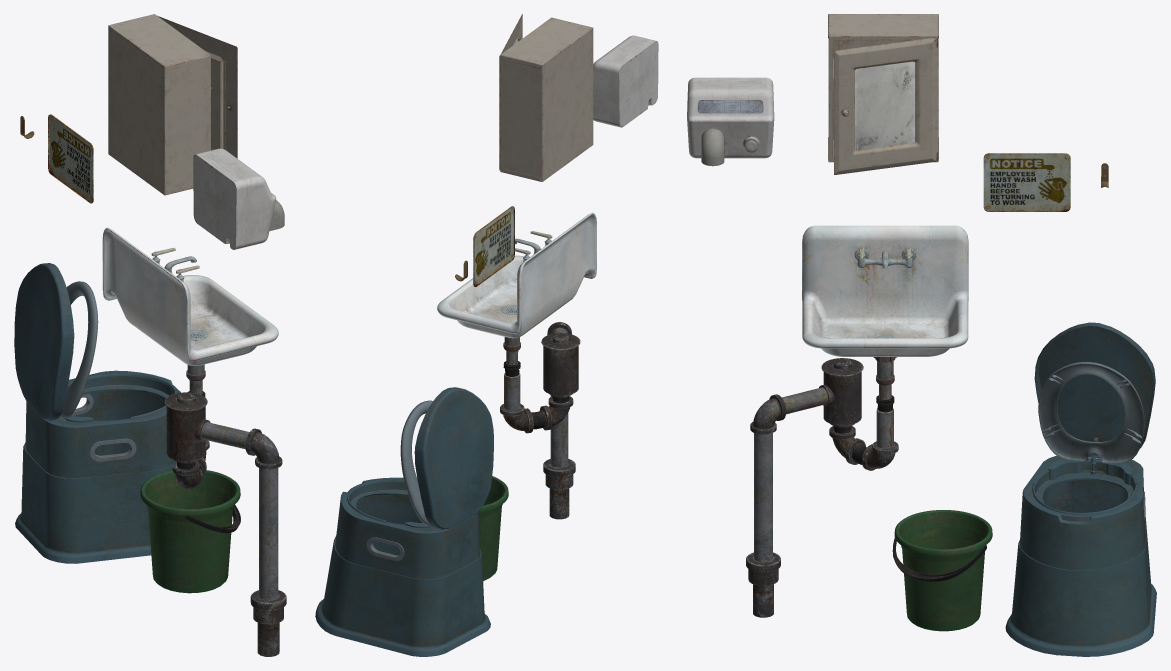
The picture shows the model from 3 angles, left to right: view 1: azimuth 30°, elevation 25°; view 2: azimuth 150°, elevation 25°; view 3: azimuth 270°, elevation 25°; orthographic projection. The views are drawn at different scales.
Visible parts, largest first — view 1: Toilet_Base_LP_27, MirrorCabinet_LP_4, BathroomSink_LP_11, PlasticBucket_Simple_LP_15, Sink_Pipes_Floor_LP_9, Toilet_Lid_LP_22, HandDryer_LP_5, Sign_LP_13, Toilet_Inside_LP_17, MirrorCabinet_Door_LP_2, Toilet_Seat_LP_26, Sink_Pipes_LP_10 (+3 smaller); view 2: Toilet_Base_LP_27, MirrorCabinet_LP_4, BathroomSink_LP_11, Toilet_Lid_LP_22, HandDryer_LP_5, Sink_Pipes_Floor_LP_9, Sink_Pipes_LP_10, Sign_LP_13, PlasticBucket_Simple_LP_15, Toilet_Inside_LP_17, Toilet_Seat_LP_26, MirrorCabinet_Door_LP_2; view 3: Toilet_Base_LP_27, BathroomSink_LP_11, PlasticBucket_Simple_LP_15, Toilet_Lid_LP_22, MirrorCabinet_Door_LP_2, Sink_Pipes_Floor_LP_9, HandDryer_LP_5, Sign_LP_13, Toilet_Seat_LP_26, MirrorCabinet_Mirror_LP_0, MirrorCabinet_LP_4, Sink_Pipes_LP_10 (+3 smaller).
Part boxes in pixels (x1,y1,x2,y2): Toilet_Base_LP_27: (15, 370, 180, 563); MirrorCabinet_LP_4: (108, 14, 210, 195); BathroomSink_LP_11: (102, 227, 278, 365); PlasticBucket_Simple_LP_15: (140, 470, 240, 593); Sink_Pipes_Floor_LP_9: (164, 392, 286, 656); Toilet_Lid_LP_22: (14, 263, 74, 420); HandDryer_LP_5: (193, 148, 284, 249); Sign_LP_13: (48, 114, 93, 203); Toilet_Inside_LP_17: (74, 390, 165, 455); MirrorCabinet_Door_LP_2: (158, 16, 237, 158); Toilet_Seat_LP_26: (60, 281, 98, 418); Sink_Pipes_LP_10: (172, 334, 209, 489); Toilet_Base_LP_27: (315, 477, 490, 656); MirrorCabinet_LP_4: (500, 17, 593, 181); BathroomSink_LP_11: (437, 212, 596, 338); Toilet_Lid_LP_22: (414, 387, 493, 529); HandDryer_LP_5: (593, 35, 658, 127); Sink_Pipes_Floor_LP_9: (541, 322, 580, 519); Sink_Pipes_LP_10: (500, 309, 573, 433); Sign_LP_13: (473, 206, 514, 286); PlasticBucket_Simple_LP_15: (478, 476, 508, 580); Toilet_Inside_LP_17: (356, 494, 422, 555); Toilet_Seat_LP_26: (400, 400, 432, 525); MirrorCabinet_Door_LP_2: (499, 14, 522, 170); Toilet_Base_LP_27: (1005, 455, 1156, 656); BathroomSink_LP_11: (802, 225, 968, 356); PlasticBucket_Simple_LP_15: (894, 510, 992, 631); Toilet_Lid_LP_22: (1034, 322, 1155, 457); MirrorCabinet_Door_LP_2: (834, 37, 938, 174); Sink_Pipes_Floor_LP_9: (746, 358, 863, 617); HandDryer_LP_5: (687, 77, 774, 166); Sign_LP_13: (983, 153, 1070, 211); Toilet_Seat_LP_26: (1038, 362, 1144, 463); MirrorCabinet_Mirror_LP_0: (855, 61, 915, 150); MirrorCabinet_LP_4: (828, 14, 938, 162); Sink_Pipes_LP_10: (829, 357, 898, 470).
Size of the model in its own units: 0.5579 by 1.83 by 1.38.
4 materials, 4 textured.
